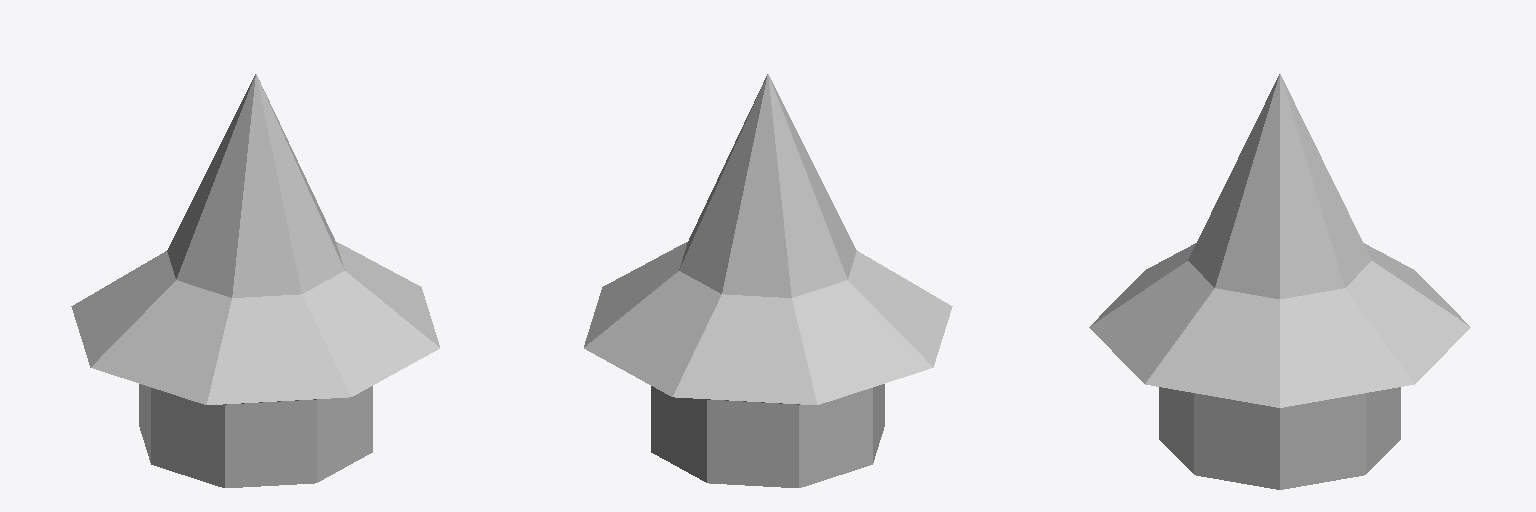
Rendered from tower_top.obj.
3 views of the same model, side by side, from view 1: azimuth 30°, elevation 25°; view 2: azimuth 150°, elevation 25°; view 3: azimuth 270°, elevation 25° (orthographic).
Parts seen in each view (by area): view 1: tower_top; view 2: tower_top; view 3: tower_top.
Boxes of the visible parts, x1=… form: tower_top: x1=71, y1=74, x2=439, y2=487; tower_top: x1=584, y1=74, x2=952, y2=487; tower_top: x1=1089, y1=74, x2=1470, y2=489.
Bounding box in the file's own units: 3.16 × 3.33 × 3.16.